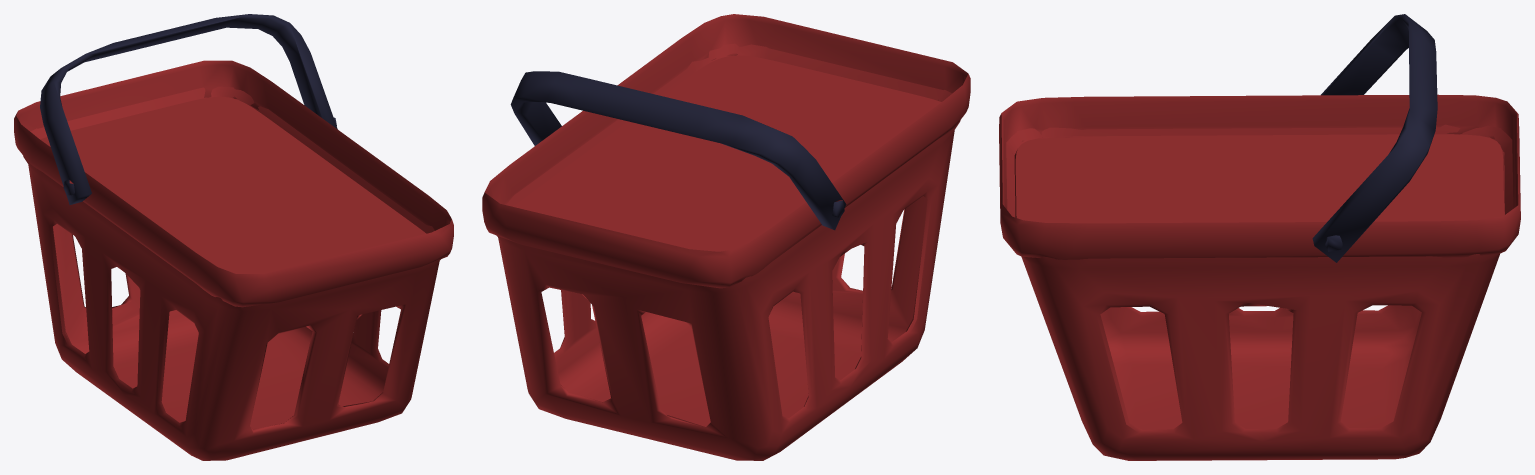
File: корзина.fbx
3 views of the same model, side by side, from view 1: azimuth 30°, elevation 25°; view 2: azimuth 150°, elevation 25°; view 3: azimuth 270°, elevation 25° (orthographic). The views are drawn at different scales.
Parts seen in each view (by area): view 1: backtrack (1).003; view 2: backtrack (1).003; view 3: backtrack (1).003.
Boxes of the visible parts, x1,y1,x2,y2 form: backtrack (1).003: (14, 14, 453, 460); backtrack (1).003: (482, 14, 970, 460); backtrack (1).003: (999, 14, 1520, 460).
Bounding box in the file's own units: 35.62 × 40.14 × 54.27.
